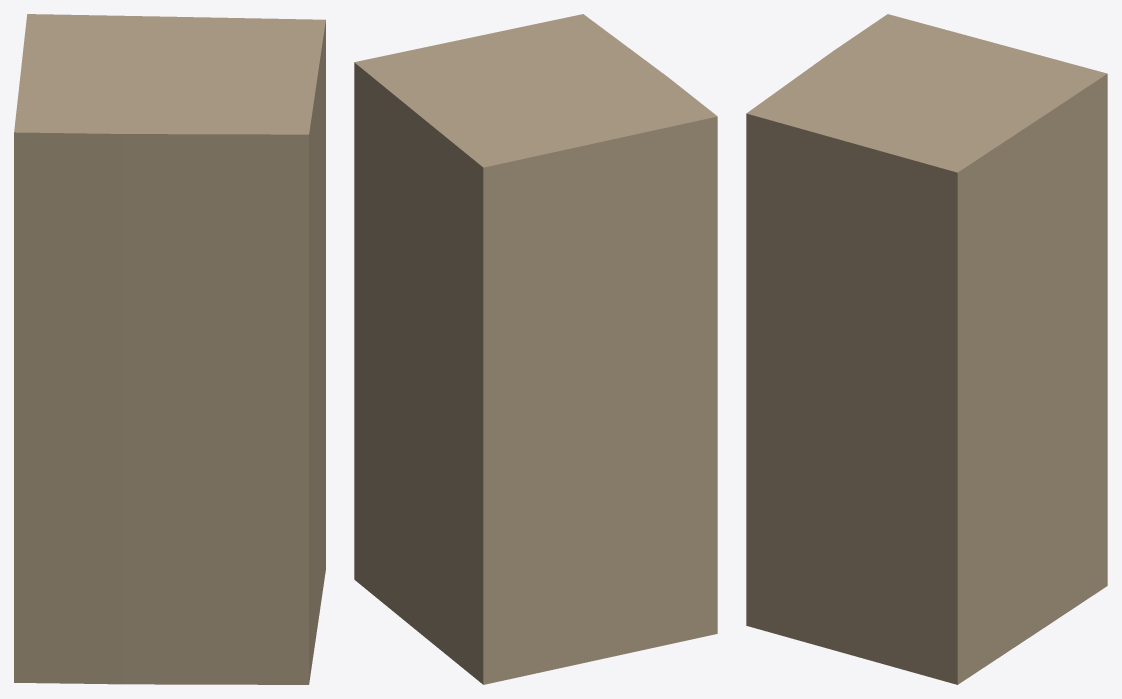
Rendered from bld_100469557.dae.
3 views of the same model, side by side, from view 1: azimuth 30°, elevation 25°; view 2: azimuth 150°, elevation 25°; view 3: azimuth 270°, elevation 25° (orthographic). The views are drawn at different scales.
Visible parts, largest first — view 1: bld_100469557; view 2: bld_100469557; view 3: bld_100469557.
Part boxes in pixels (x1,y1,x2,y2): bld_100469557: (14,14,325,684); bld_100469557: (354,14,717,684); bld_100469557: (746,14,1107,684).
Size of the model in its own units: 5.31 by 5.11 by 8.
